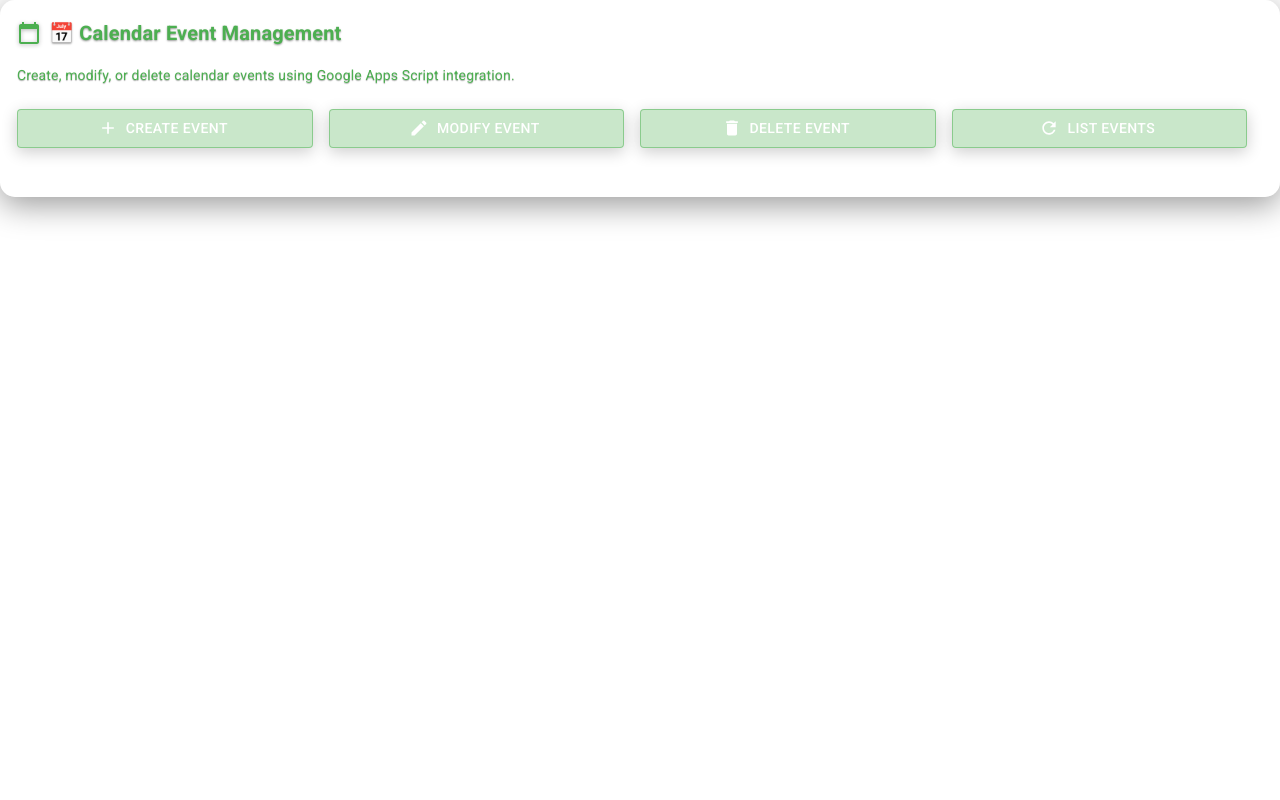
SimpleCalendarTest Component › Create Event › opens create dialog when create button is clicked
Click the button "Create Event".
click(165, 128)  # box [17,109,312,148]
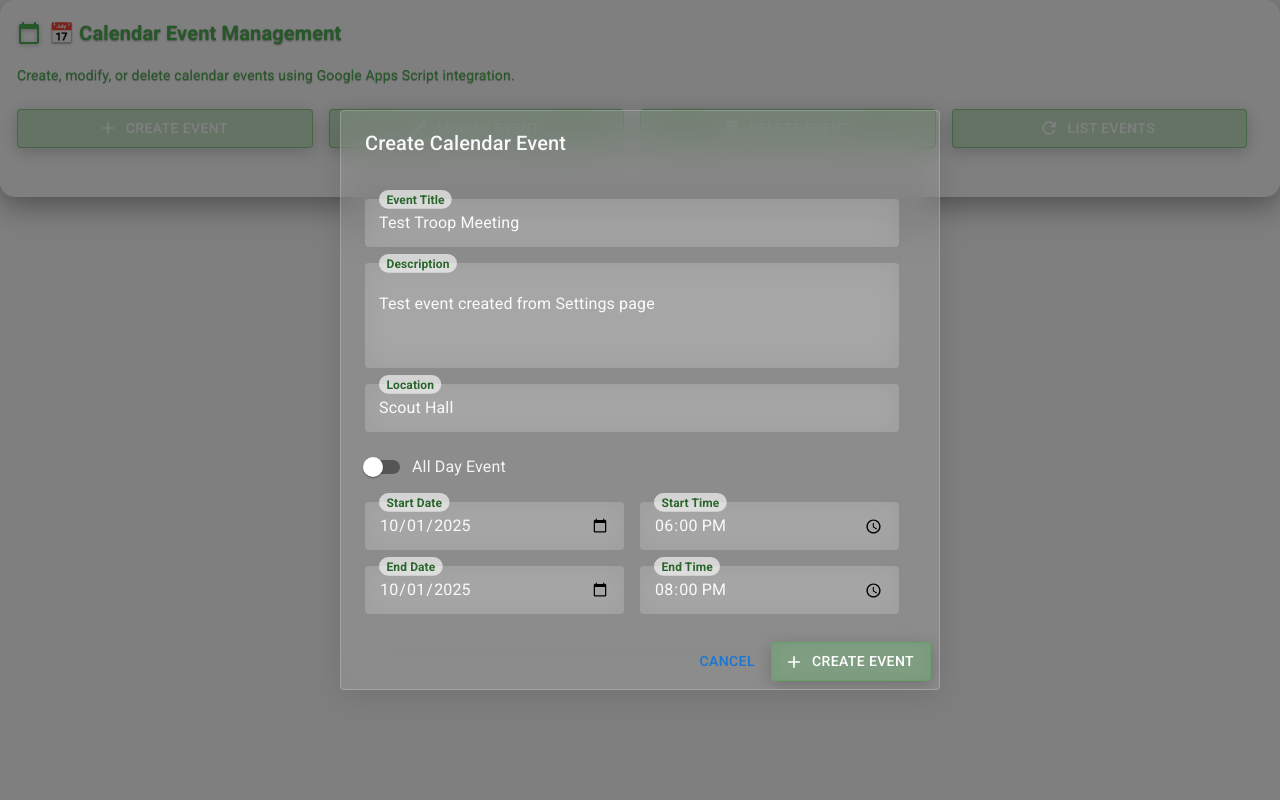
Expected: the heading "Create Calendar Event" is shown, [365,131,566,155]
Expected: the field labelled "Event Title" is shown, [365,211,899,235]
Expected: the text box labelled "Description" is shown, [379,280,885,352]
